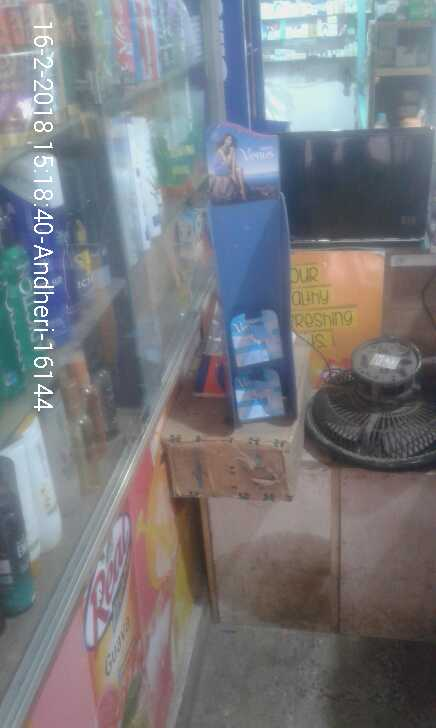beauty: (229, 311, 283, 364), (234, 374, 286, 421)
